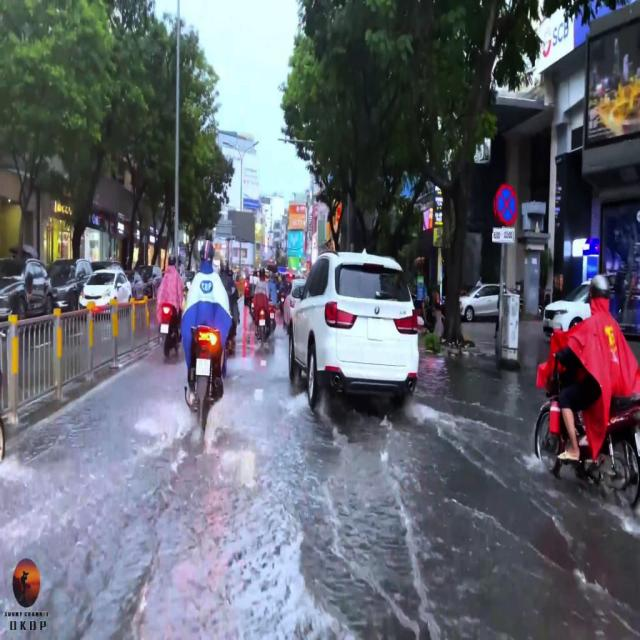cam_dung_xe_va_do_xe: (493, 179, 517, 228)
khac: (492, 226, 515, 242)
